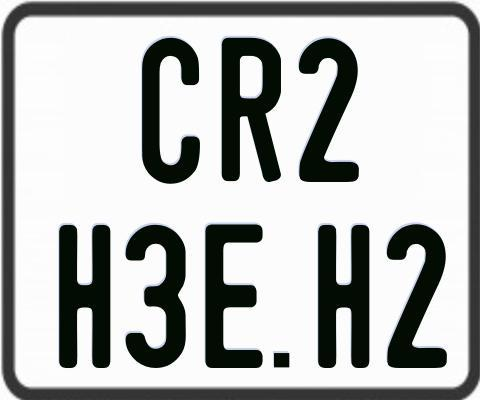2: (386, 221, 449, 369), (299, 38, 361, 187)
3: (124, 223, 187, 368)
C: (141, 36, 199, 185)
E: (204, 221, 266, 367)
H: (58, 223, 114, 368), (315, 225, 366, 369)
R: (219, 37, 283, 187)
